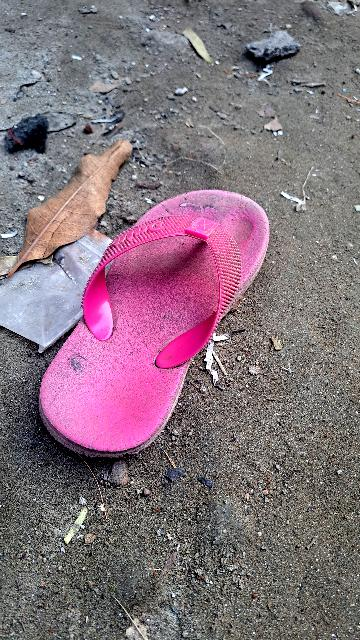sandal: (21, 158, 289, 480)
